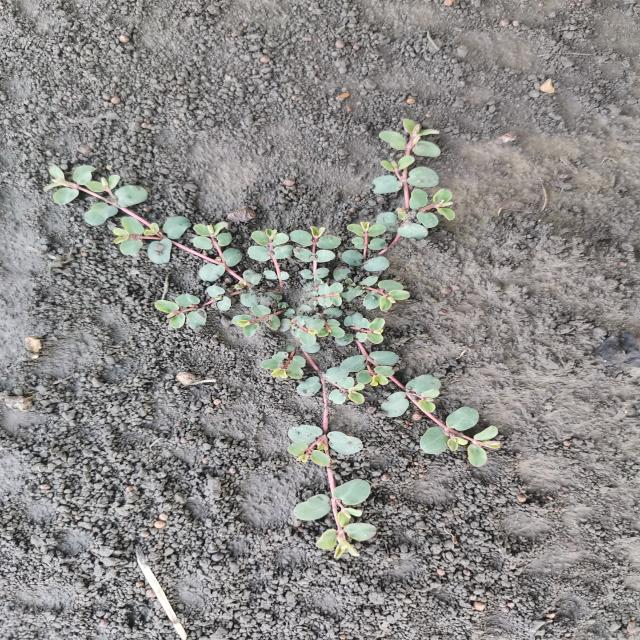SpottedSpurge: (40, 115, 504, 563)
